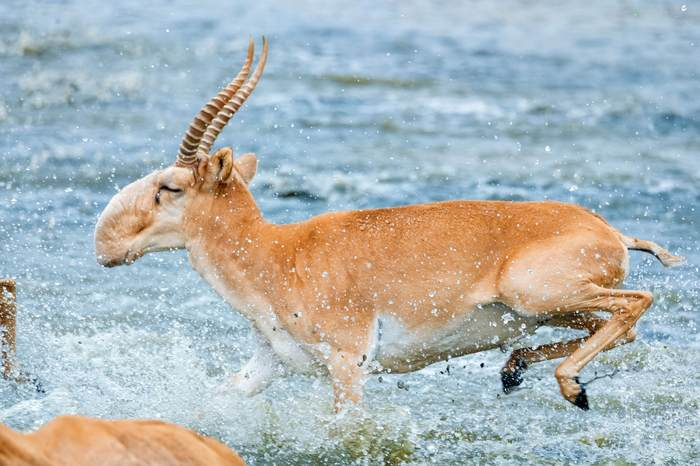saiga: (88, 31, 684, 439)
